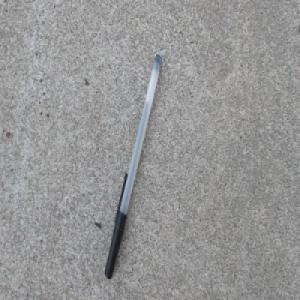Pen: (102, 52, 162, 280)
